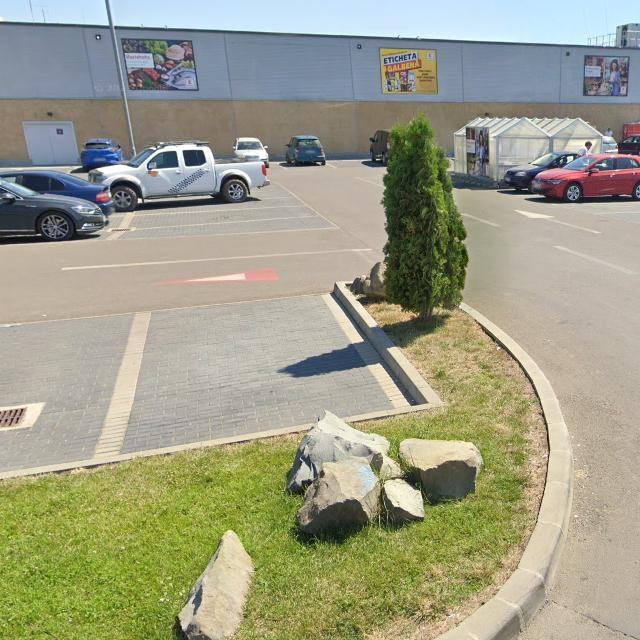prio_give_way: (156, 270, 279, 285)
